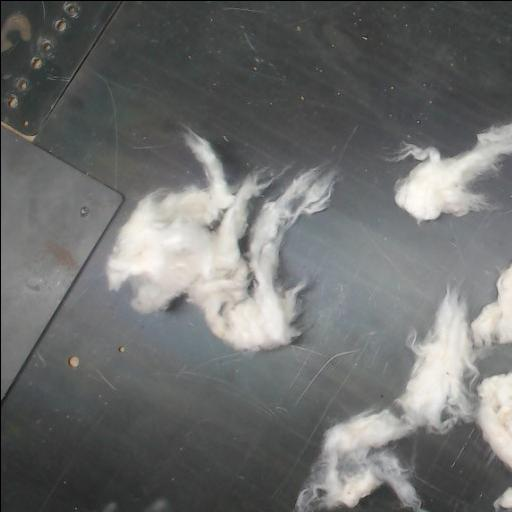conveyor belt: (1, 1, 512, 512), (397, 425, 512, 512), (335, 486, 406, 512), (480, 346, 512, 375)
cotton: (296, 262, 512, 512), (107, 131, 333, 350), (395, 123, 512, 220), (494, 487, 512, 512)
